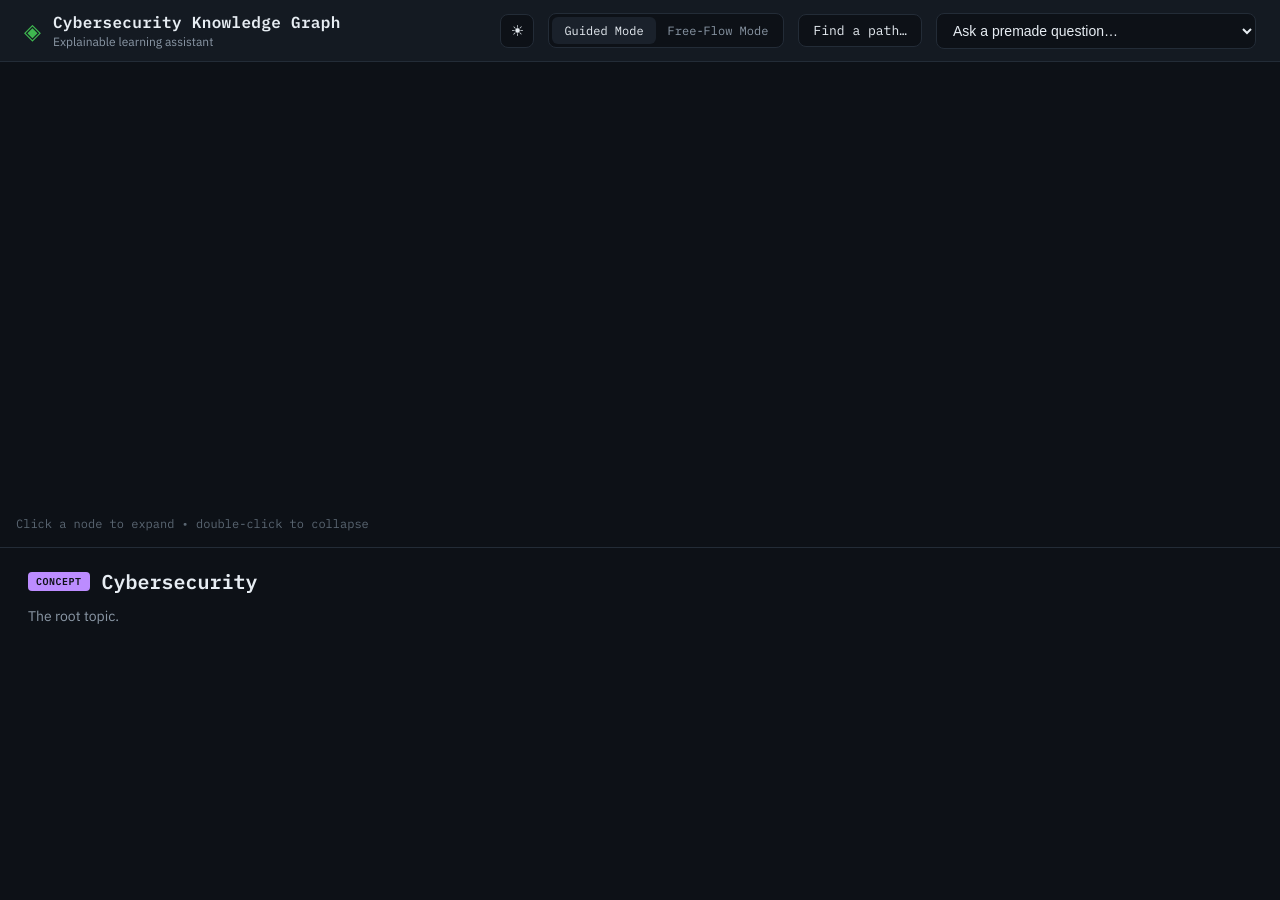
Test: App smoke test › opens the Path Finder panel and shows From/To fields
The width and height of the screenshot is (1280, 900).
What coordinates should you click on to do the following:
click the button "Find a path…"
I would click on:
 (860, 30)
Its box is [798,14,922,47].
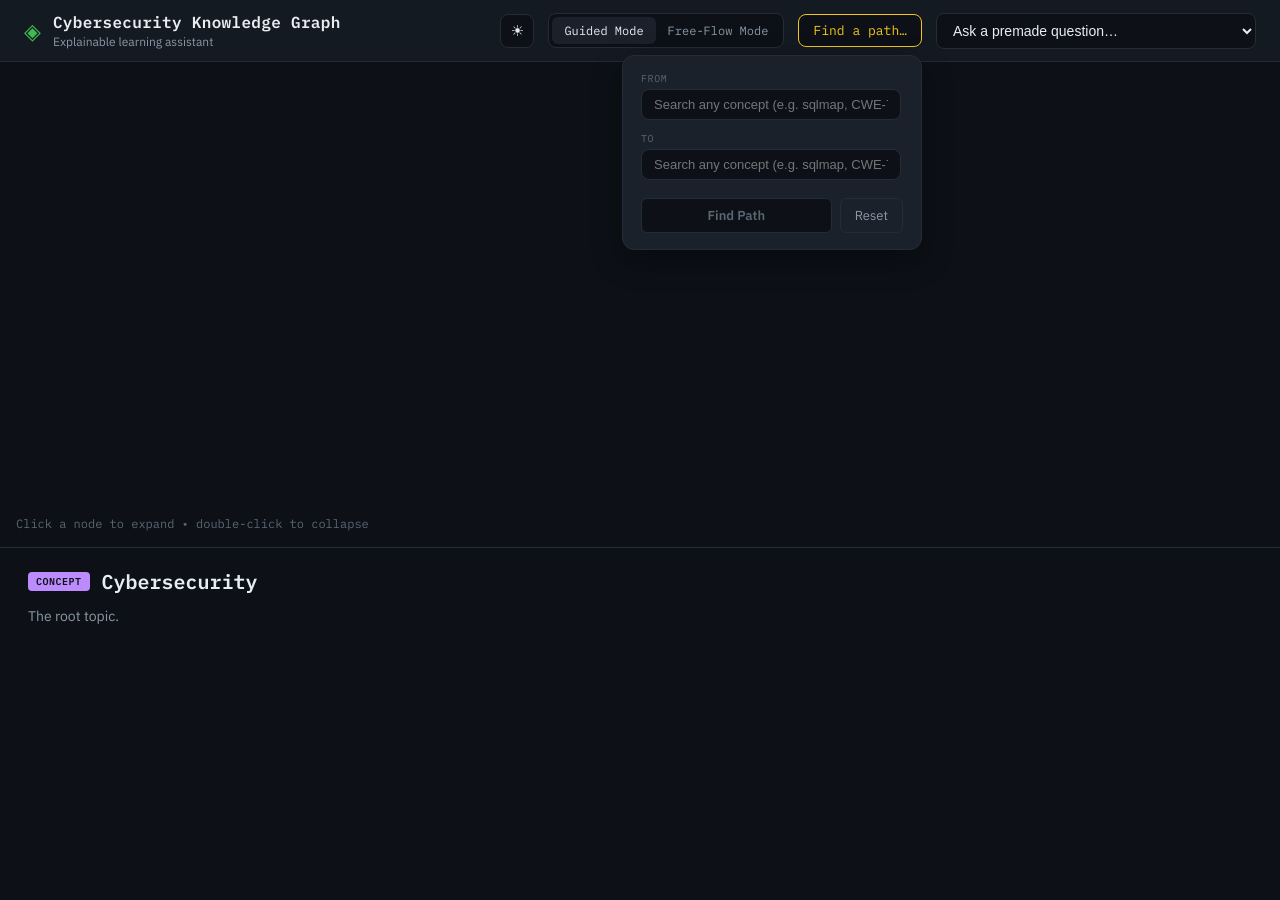
Check: the text "From" is shown, box [641,72,667,85]
Check: the text "To" is shown, box [641,132,654,145]
